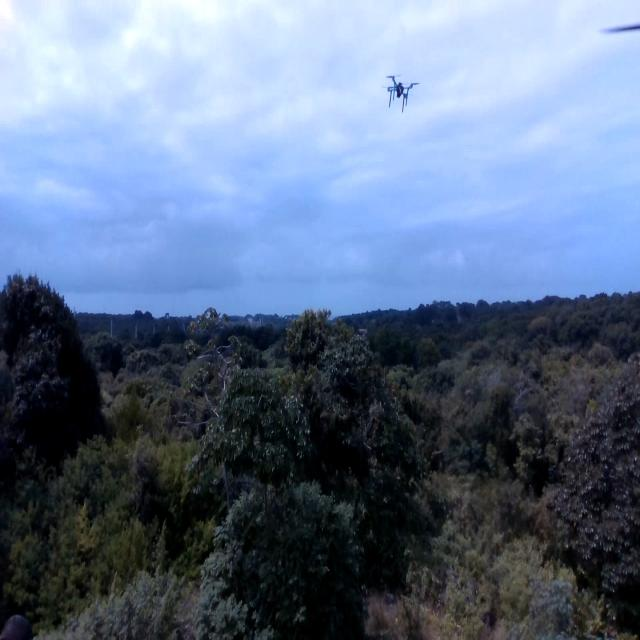-uav-: (378, 64, 422, 126)
